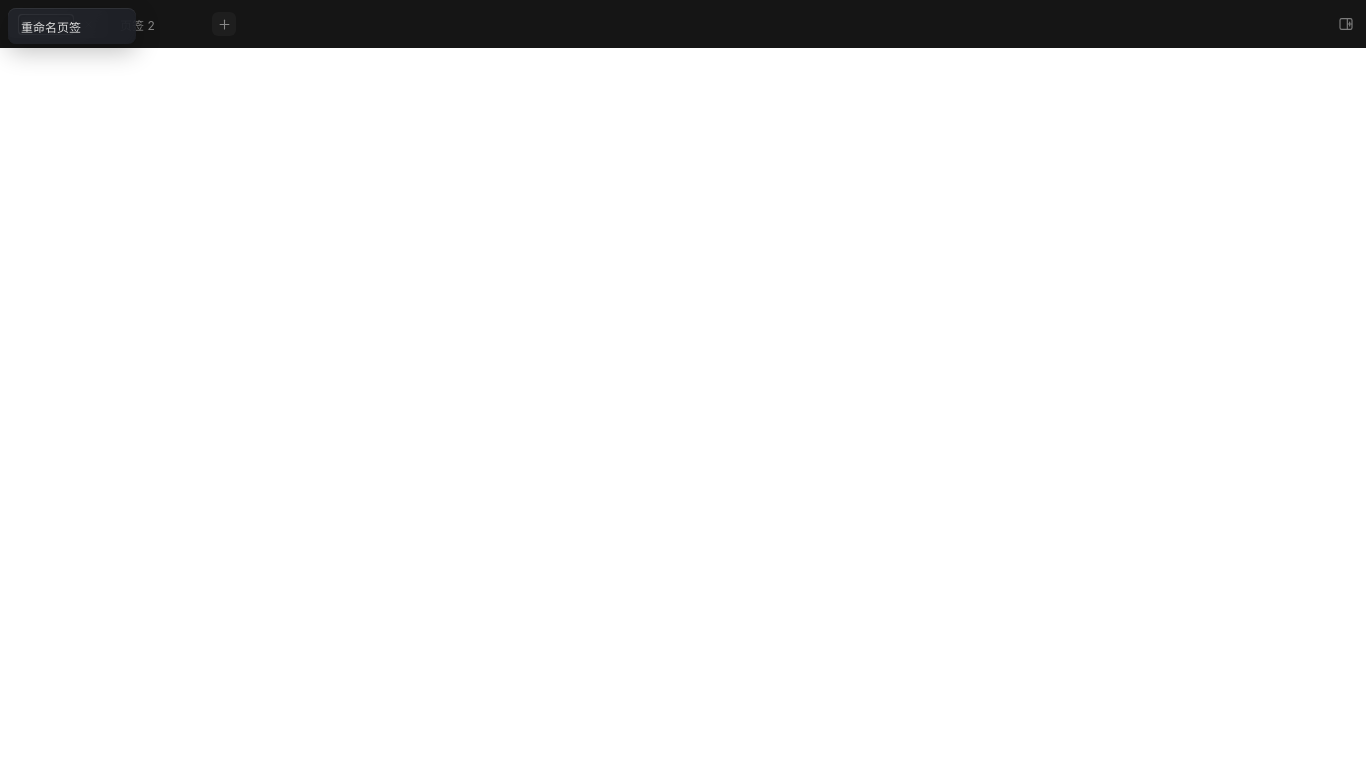
Scenario: Scene tabs and split actions › renames a Scene and blocks a duplicate pinned title
Click the menu item "重命名页签" at (72,26), box [12,12,132,40]
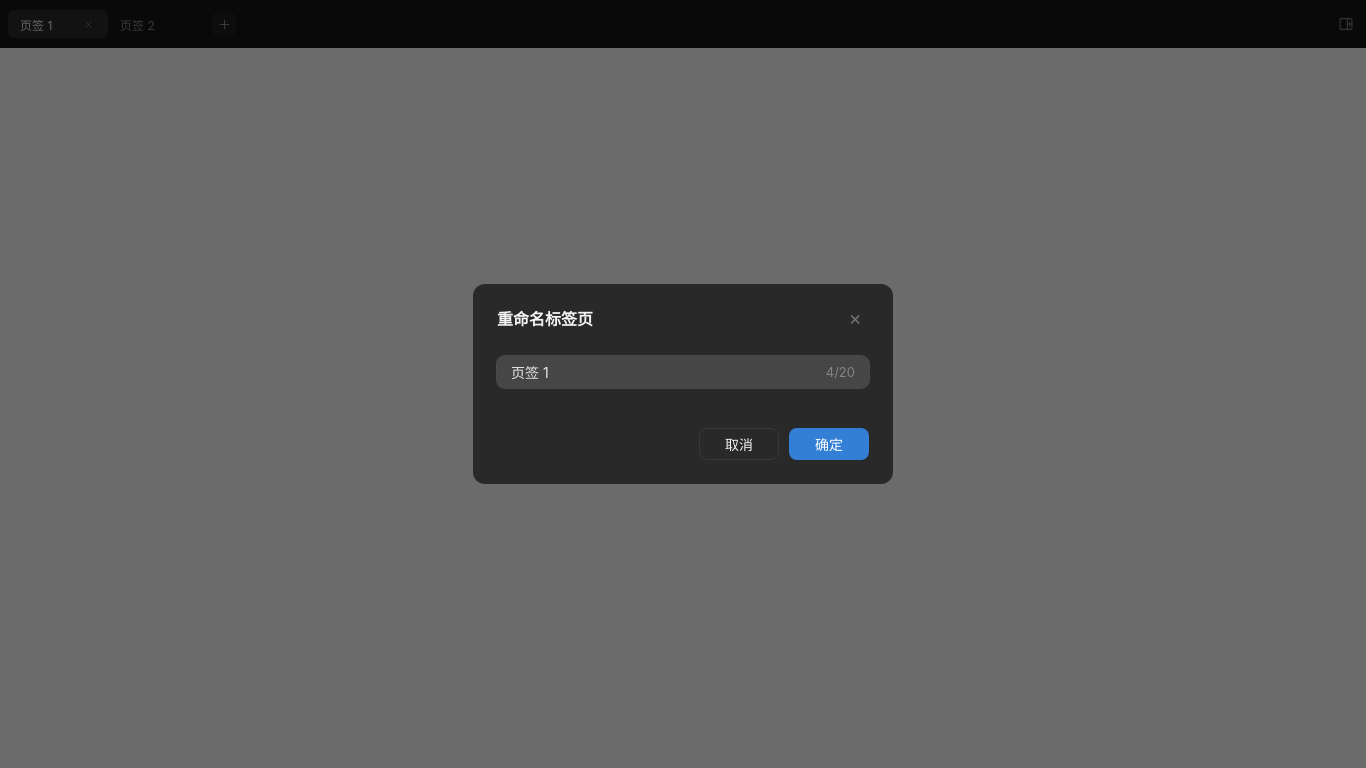
Replace the text in the field named "页签名称" with "页签 2" at (683,372), box [497,356,869,388]
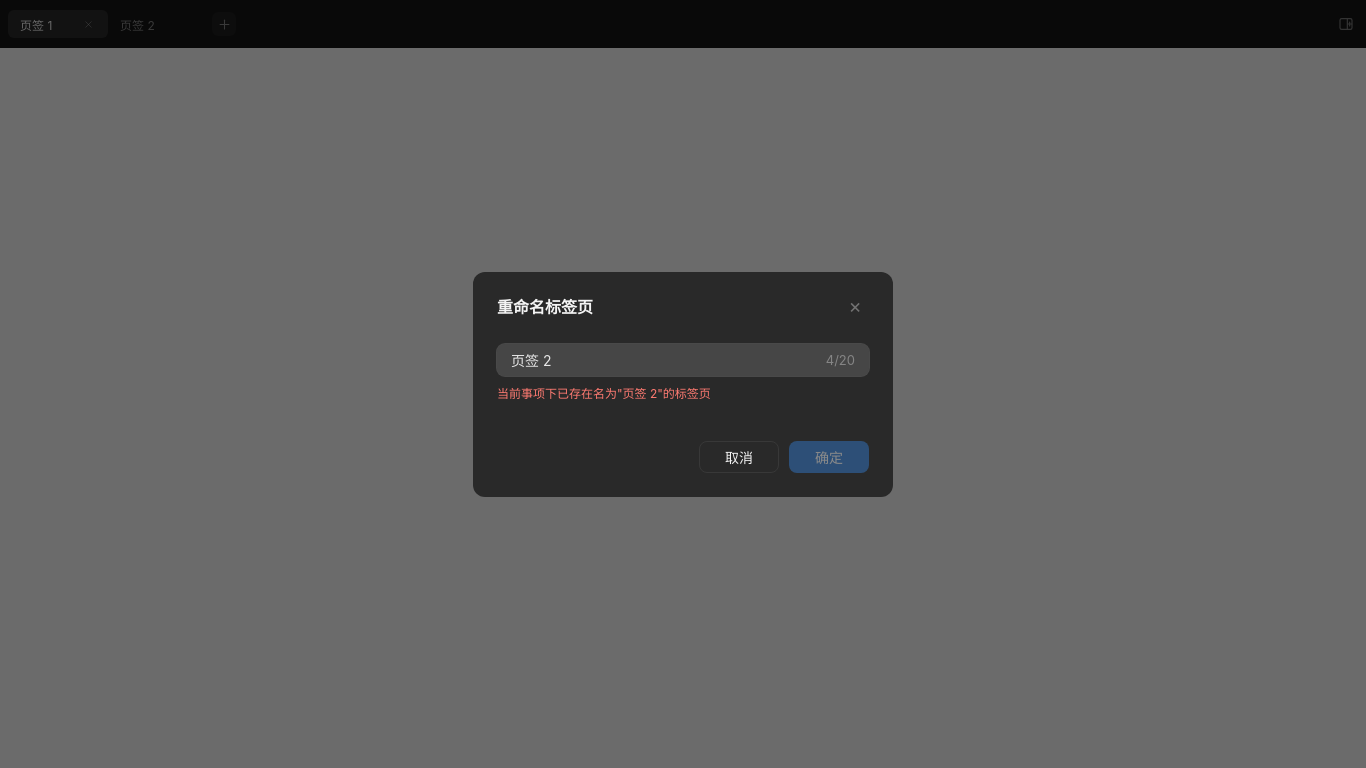
Check: the text "当前事项下已存在名为\"页签 2\"的标签页" is shown, box [497,386,711,400]
Check: the button "确定" is disabled, box [789,440,869,472]
